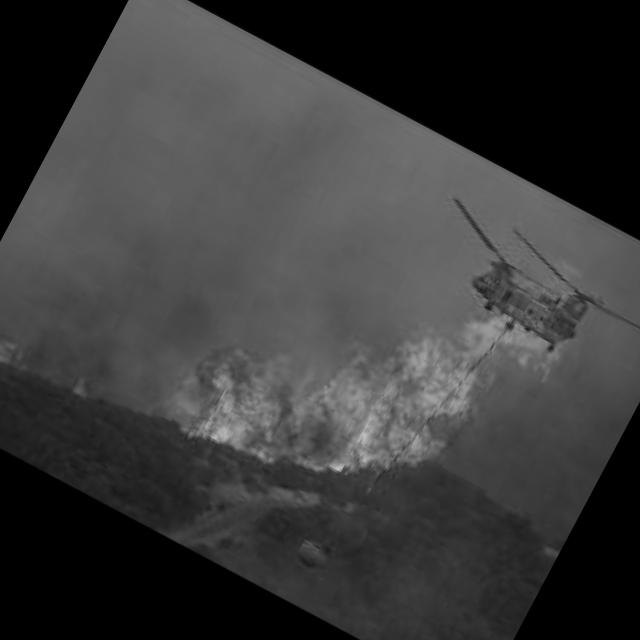fire: (143, 180, 571, 578), (0, 322, 29, 378), (66, 369, 96, 400)
